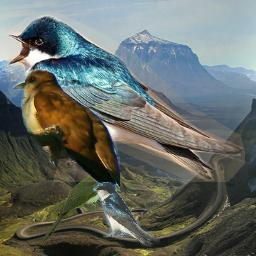Cuckoo: (13, 69, 120, 195), (42, 168, 114, 243)
Swallow: (4, 13, 245, 182), (93, 182, 160, 247)
